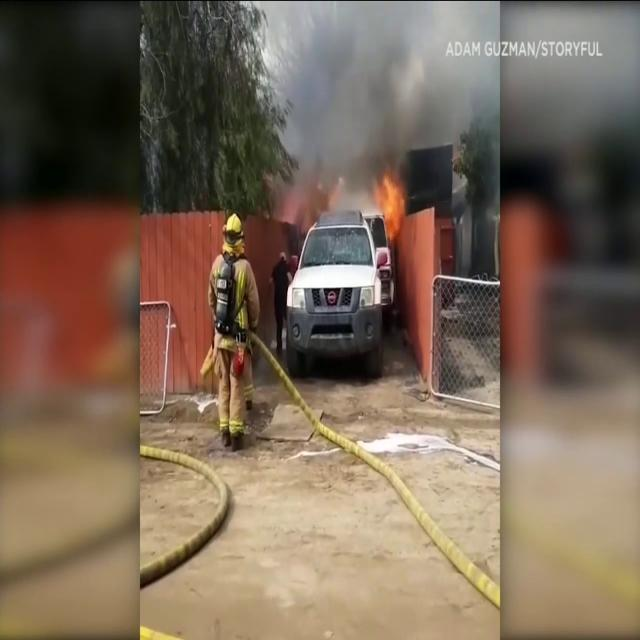Fire: (376, 170, 402, 246)
Smoke: (268, 2, 499, 218)
